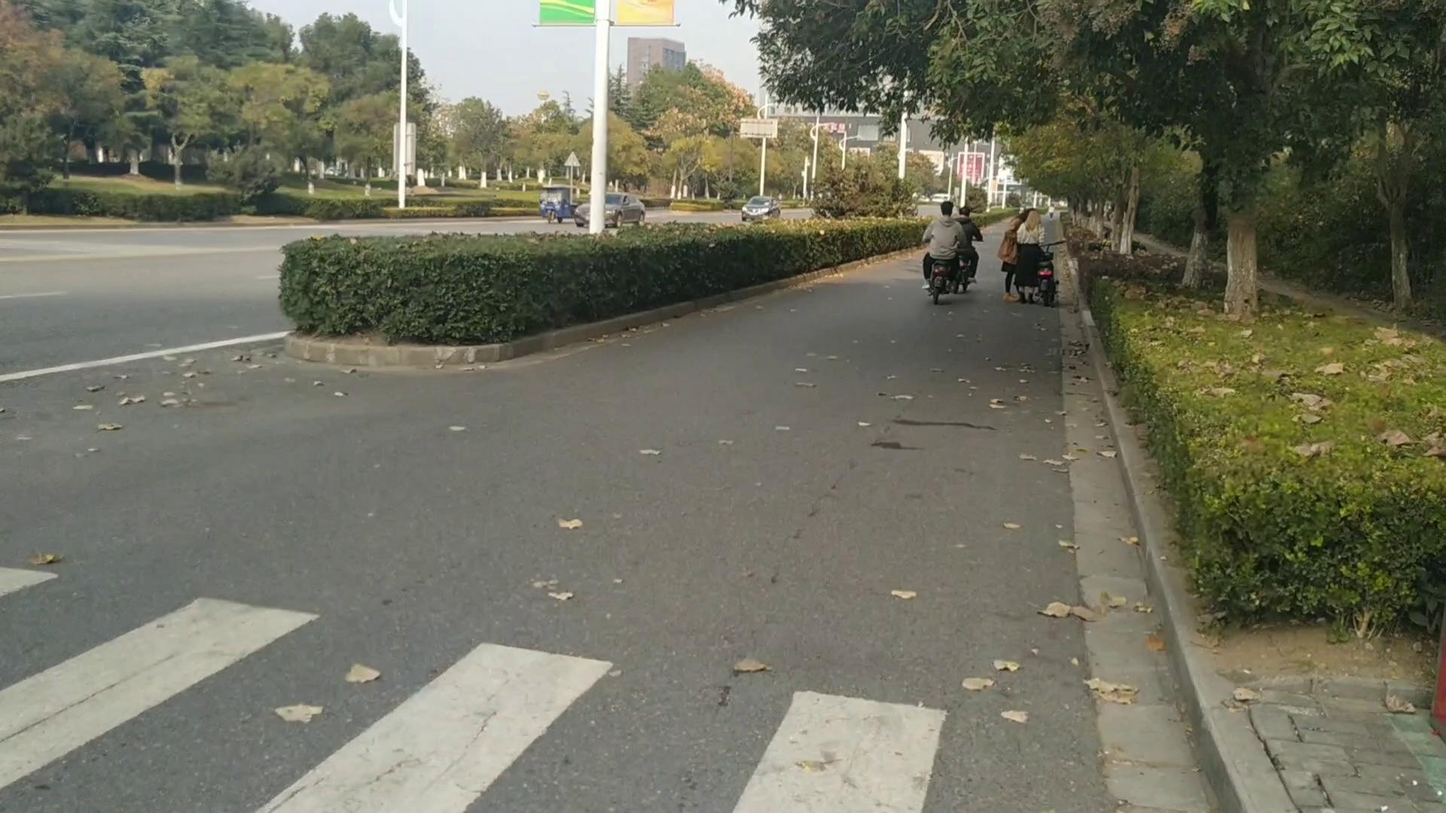car: (578, 193, 646, 227), (539, 185, 581, 223), (741, 195, 779, 221)
